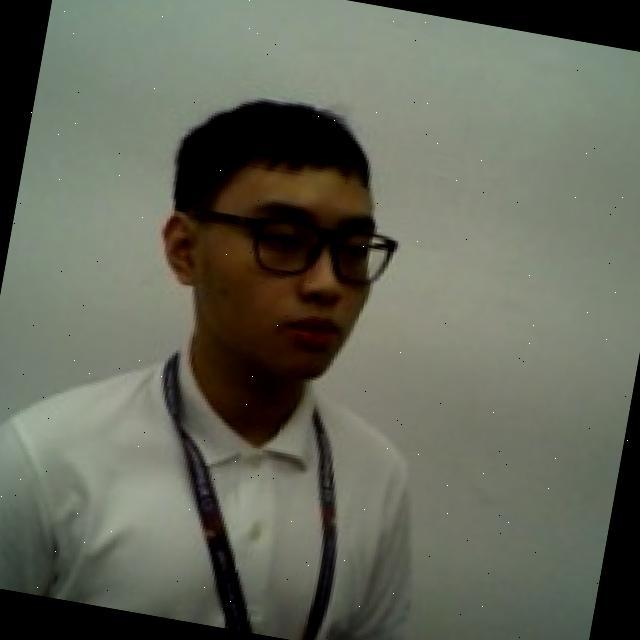no_gloves: (162, 81, 401, 242)
no_hairnet: (140, 214, 372, 397)
